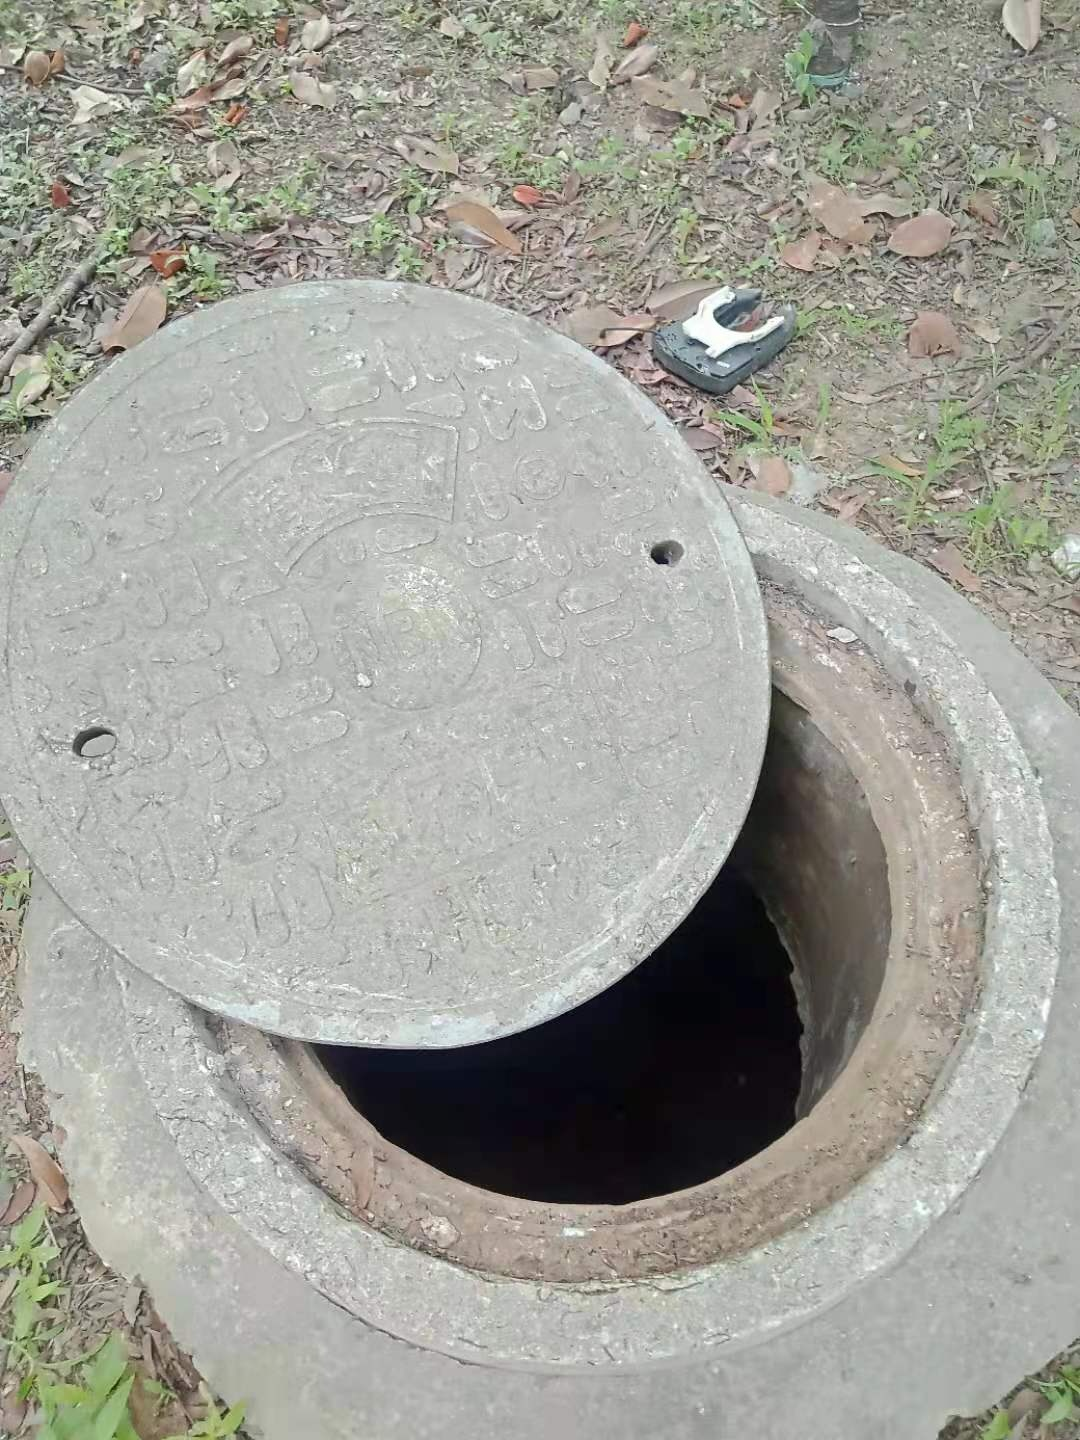uncovered: (2, 274, 1080, 1371)
